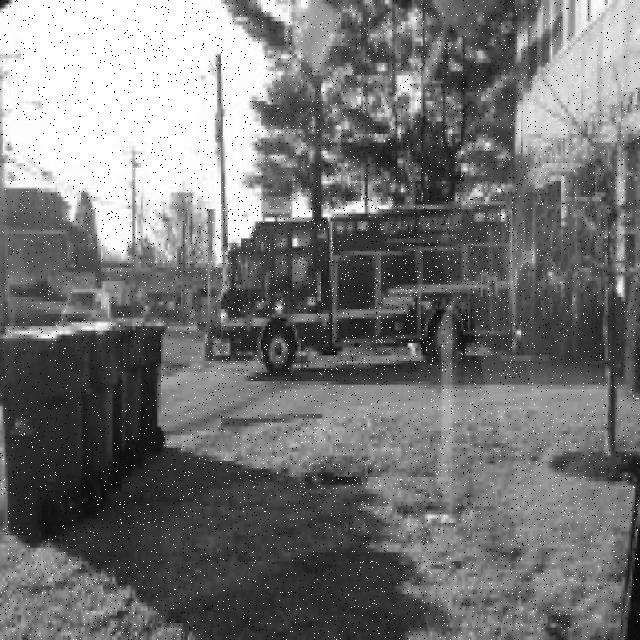Fire Truck: (204, 198, 521, 378)
